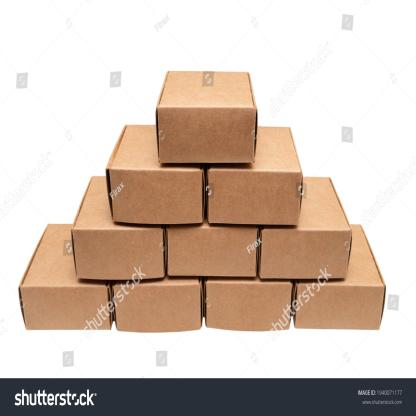box: (158, 105, 255, 165), (206, 167, 301, 227), (108, 169, 202, 225), (258, 229, 352, 280), (167, 224, 258, 276), (74, 229, 165, 280), (205, 280, 291, 333), (115, 280, 202, 331), (293, 280, 383, 329), (18, 282, 111, 329)
